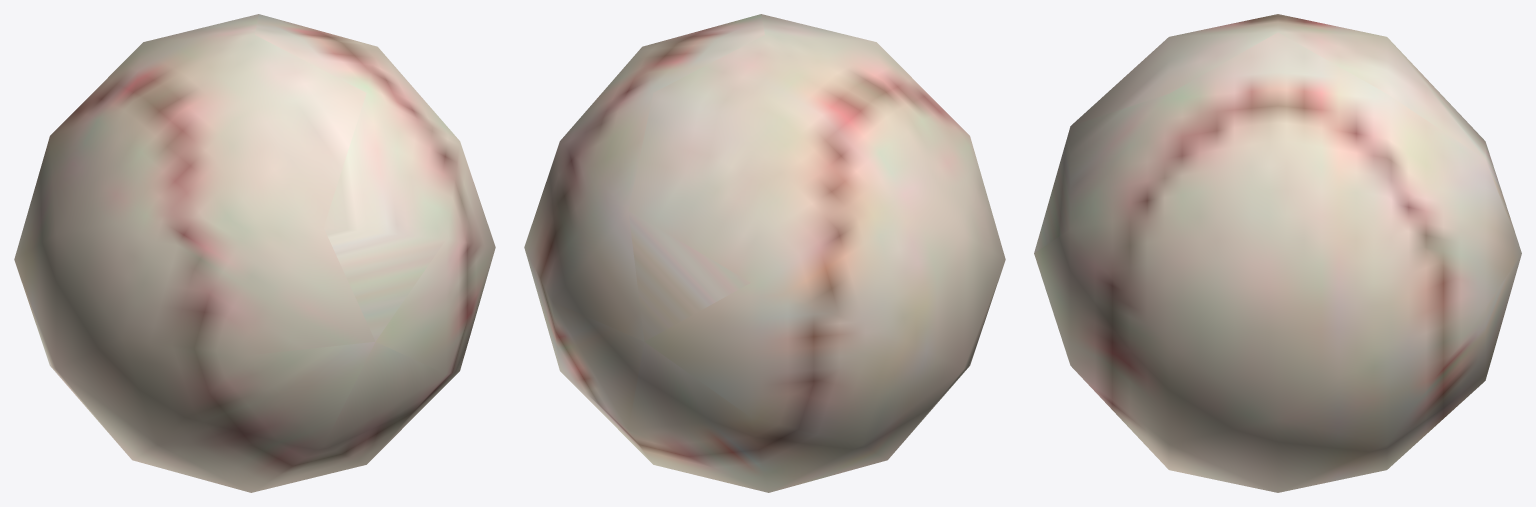
Rendered from baseball.glb.
3 views of the same model, side by side, from view 1: azimuth 30°, elevation 25°; view 2: azimuth 150°, elevation 25°; view 3: azimuth 270°, elevation 25° (orthographic).
Parts seen in each view (by area): view 1: baseball; view 2: baseball; view 3: baseball.
Boxes of the visible parts, x1,y1,x2,y2 form: baseball: (14,14,495,492); baseball: (524,14,1005,492); baseball: (1034,14,1521,492).
Bounding box in the file's own units: 0.1122 × 0.1179 × 0.1179.
Materials: 1 (1 with a texture image).
